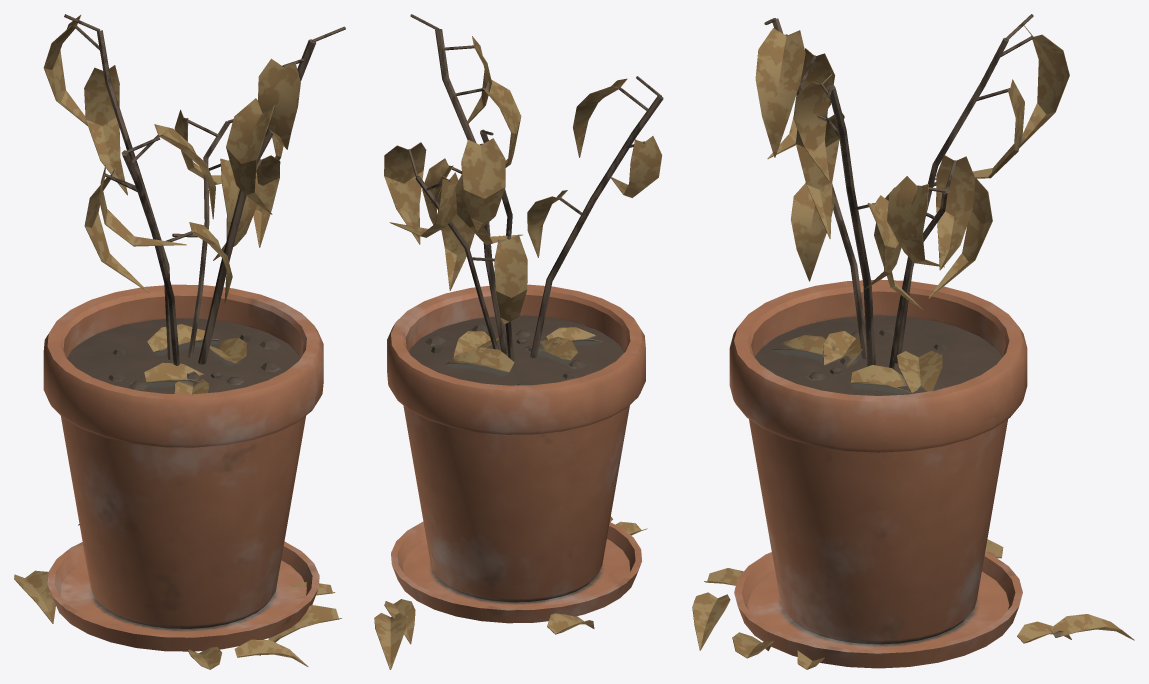
Rendered from vaso_planta_morta.glb.
3 renders of one model, left to right at view 1: azimuth 30°, elevation 25°; view 2: azimuth 150°, elevation 25°; view 3: azimuth 270°, elevation 25°, orthographic. The views are drawn at different scales.
Visible parts, largest first — view 1: vaso, planta; view 2: vaso, planta; view 3: vaso, planta.
Boxes of the visible parts, x1,y1,x2,y2 form: vaso: (43,284,323,651); planta: (14,14,345,669); vaso: (387,284,645,623); planta: (374,14,663,669); vaso: (729,279,1027,668); planta: (692,14,1134,669).
Bounding box in the file's own units: 0.3737 × 0.7981 × 0.5205.
Materials: 2 (2 with a texture image).
